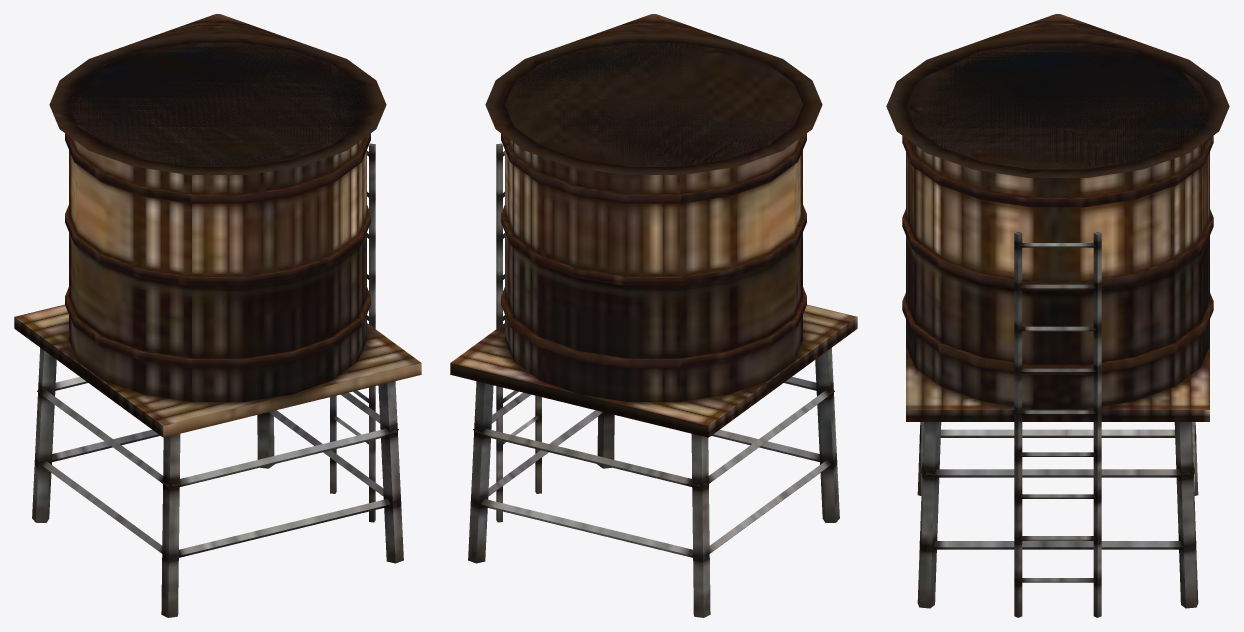
The model's file is roof_tank.glb.
3 views of the same model, side by side, from view 1: azimuth 30°, elevation 25°; view 2: azimuth 150°, elevation 25°; view 3: azimuth 270°, elevation 25° (orthographic).
Parts seen in each view (by area): view 1: roof_tank; view 2: roof_tank; view 3: roof_tank.
Boxes of the visible parts, x1,y1,x2,y2 form: roof_tank: (14,14,421,617); roof_tank: (450,14,857,617); roof_tank: (886,14,1229,617).
Bounding box in the file's own units: 2.56 × 4.45 × 2.6.
4 materials, 4 textured.
